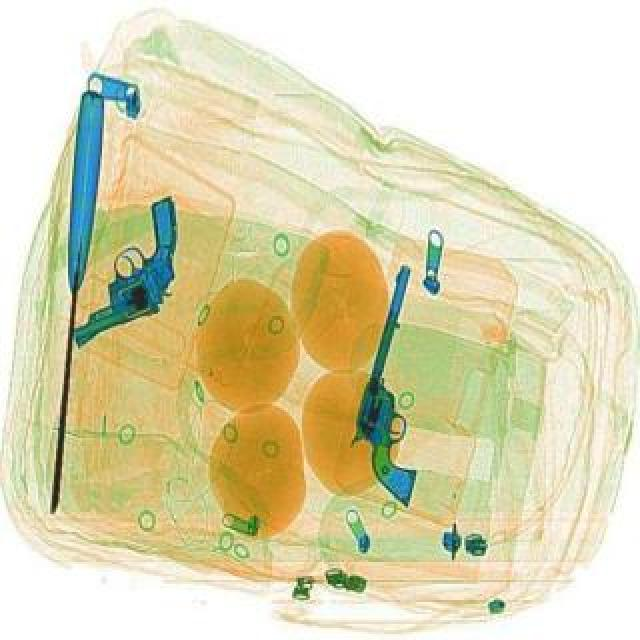gun: (336, 260, 472, 504), (30, 192, 222, 348)
knife: (46, 88, 108, 512)
